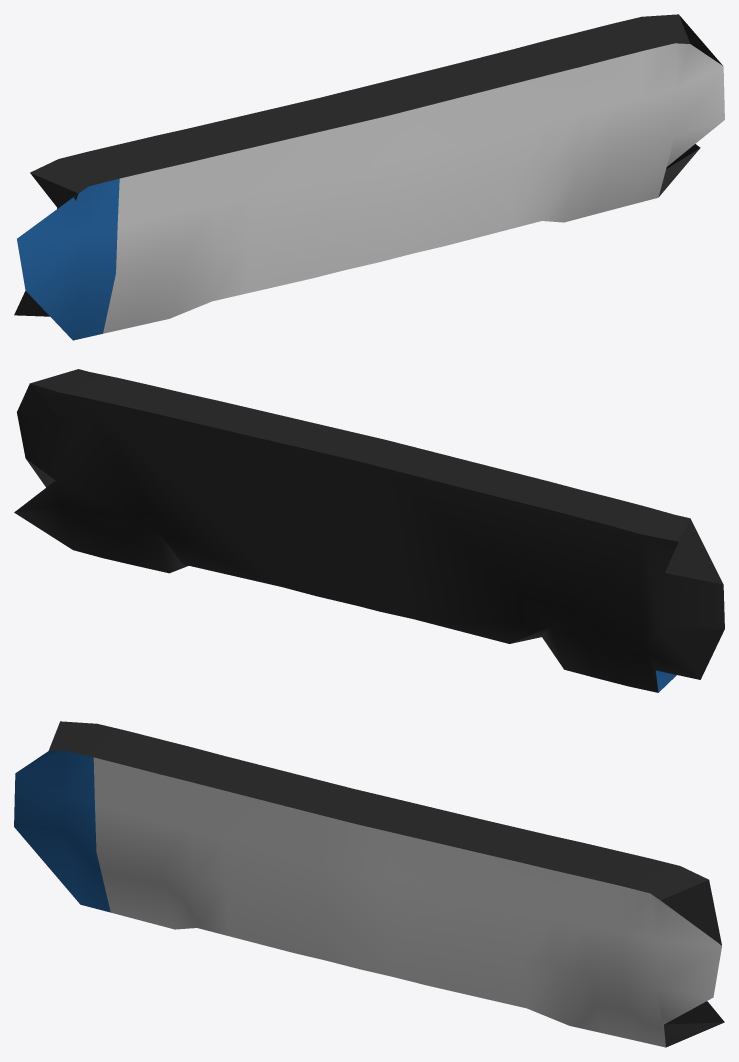
Rendered from plate_F.glb.
3 renders of one model, top to bottom at view 1: azimuth 30°, elevation 25°; view 2: azimuth 150°, elevation 25°; view 3: azimuth 330°, elevation 25°, orthographic.
Visible parts, largest first — view 1: plate_F; view 2: plate_F; view 3: plate_F.
Boxes of the visible parts, x1,y1,x2,y2 form: plate_F: (14, 14, 724, 340); plate_F: (14, 369, 724, 692); plate_F: (14, 721, 724, 1047).
Bounding box in the file's own units: 0.5598 × 0.1297 × 0.054.
